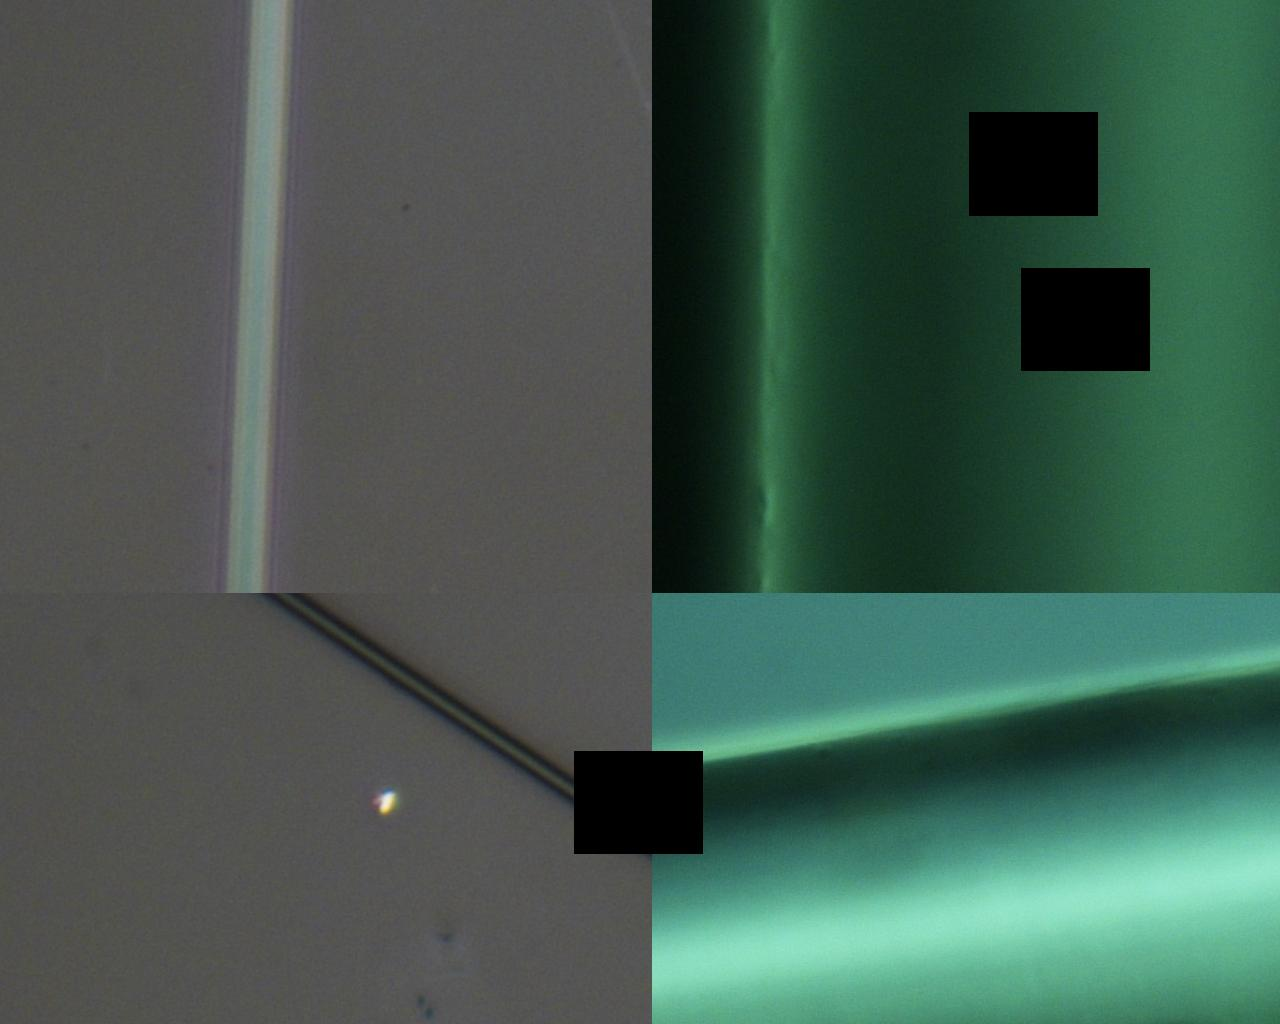fiber: (482, 0, 1131, 1024)
